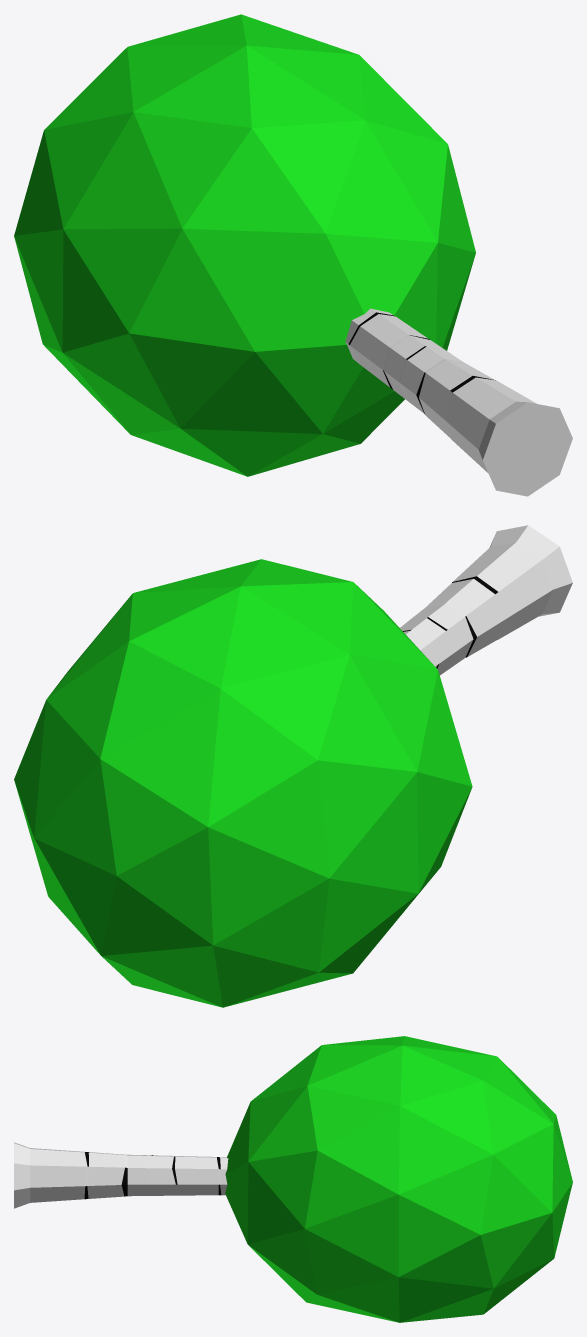
File: BirchTree_3.fbx
3 renders of one model, top to bottom at view 1: azimuth 30°, elevation 25°; view 2: azimuth 150°, elevation 25°; view 3: azimuth 270°, elevation 25°, orthographic. The views are drawn at different scales.
Visible parts, largest first — view 1: BirchTree_3; view 2: BirchTree_3; view 3: BirchTree_3.
Boxes of the visible parts, x1=… form: BirchTree_3: x1=14, y1=14, x2=572, y2=496; BirchTree_3: x1=14, y1=525, x2=572, y2=1007; BirchTree_3: x1=14, y1=1036, x2=572, y2=1322.
Size of the model in its own units: 357 by 376 by 706.
